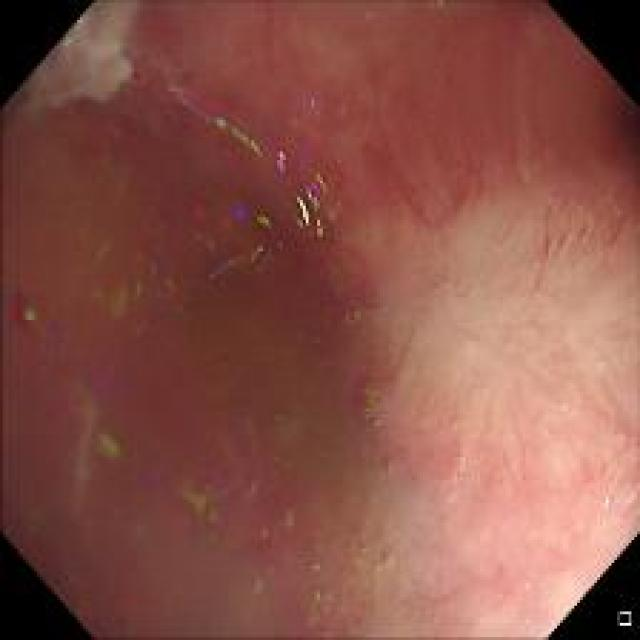bubbles: (359, 376, 381, 429), (336, 302, 362, 330), (302, 556, 324, 576), (378, 550, 398, 570), (319, 260, 340, 279), (254, 518, 269, 539), (554, 394, 572, 410), (444, 490, 458, 502), (596, 356, 606, 371), (458, 450, 465, 459)
color misalignment: (142, 466, 294, 574), (268, 89, 349, 245), (89, 236, 198, 335), (182, 192, 288, 286), (160, 74, 265, 160), (61, 371, 126, 472), (11, 282, 44, 334), (65, 469, 91, 525), (58, 36, 76, 55)
